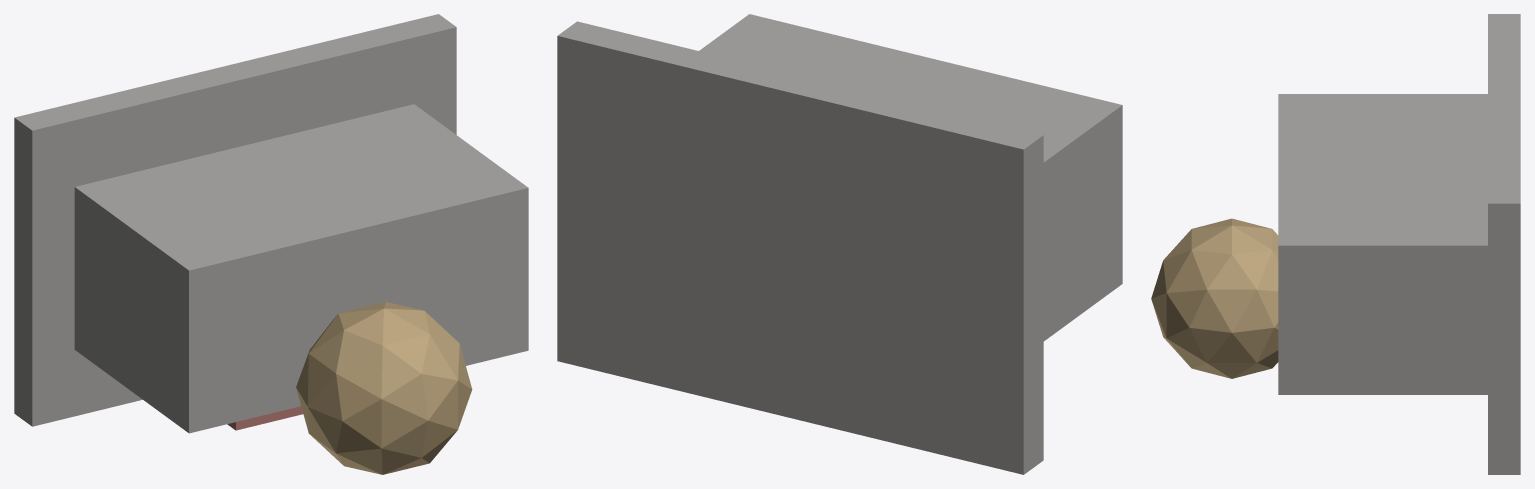
The picture shows the model from 3 angles, left to right: view 1: azimuth 30°, elevation 25°; view 2: azimuth 150°, elevation 25°; view 3: azimuth 270°, elevation 25°; orthographic projection. The views are drawn at different scales.
Parts seen in each view (by area): view 1: H14_part_1, H14_part_0, H14_part_3, H14_part_2; view 2: H14_part_0, H14_part_1; view 3: H14_part_1, H14_part_3, H14_part_0.
Boxes of the visible parts, x1=… form: H14_part_1: x1=74, y1=104, x2=528, y2=433; H14_part_0: x1=14, y1=14, x2=456, y2=426; H14_part_3: x1=296, y1=302, x2=472, y2=474; H14_part_2: x1=227, y1=406, x2=303, y2=430; H14_part_0: x1=557, y1=21, x2=1043, y2=474; H14_part_1: x1=699, y1=14, x2=1122, y2=341; H14_part_1: x1=1278, y1=94, x2=1487, y2=394; H14_part_3: x1=1151, y1=218, x2=1278, y2=378; H14_part_0: x1=1488, y1=14, x2=1520, y2=474.
Bounding box in the file's own units: 1.5 × 1 × 1.24.
